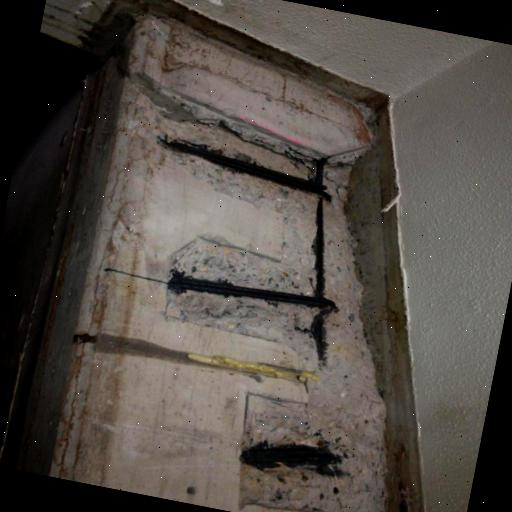spalling: (145, 115, 380, 512)
